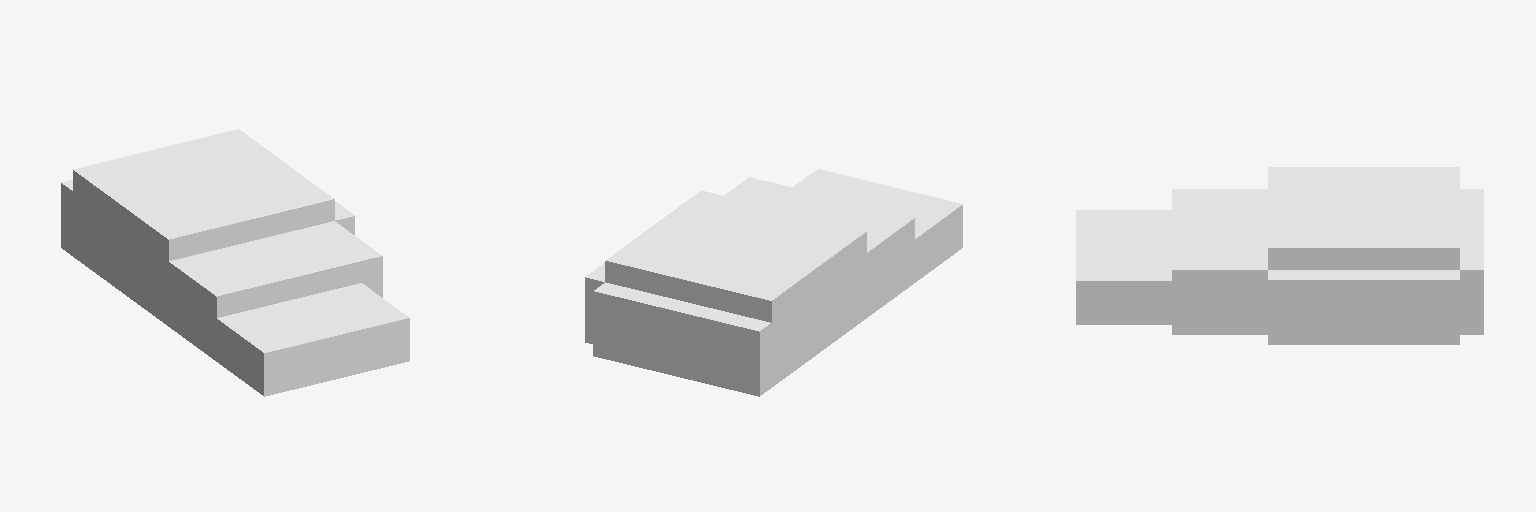
File: robotLeftFoot.obj
3 renders of one model, left to right at view 1: azimuth 30°, elevation 25°; view 2: azimuth 150°, elevation 25°; view 3: azimuth 270°, elevation 25°, orthographic.
Parts seen in each view (by area): view 1: object 1; view 2: object 1; view 3: object 1.
Part boxes in pixels (left/top/right/bottom): object 1: left=61, top=129, right=409, bottom=396; object 1: left=585, top=169, right=962, bottom=396; object 1: left=1076, top=167, right=1483, bottom=344.
Bounding box in the file's own units: 0.9 × 0.4 × 1.7.